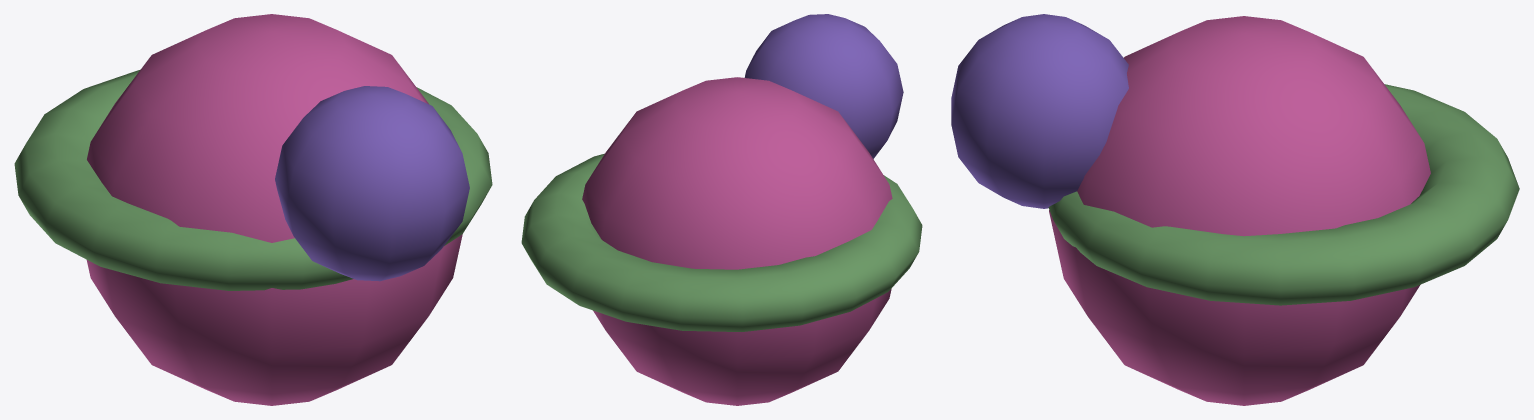
The model's file is glow_snail.glb.
3 views of the same model, side by side, from view 1: azimuth 30°, elevation 25°; view 2: azimuth 150°, elevation 25°; view 3: azimuth 270°, elevation 25° (orthographic). The views are drawn at different scales.
Visible parts, largest first — view 1: body_core, head_core, shell_ring; view 2: body_core, shell_ring, head_core; view 3: body_core, shell_ring, head_core.
Part boxes in pixels (x1,y1,x2,y2): body_core: [86, 14, 462, 405]; head_core: [275, 86, 469, 281]; shell_ring: [14, 69, 492, 290]; body_core: [582, 77, 892, 405]; shell_ring: [521, 153, 922, 331]; head_core: [744, 14, 903, 158]; body_core: [1049, 16, 1430, 405]; shell_ring: [1048, 84, 1519, 305]; head_core: [951, 14, 1128, 208].
Size of what is drawn, in the model's own units: 1.96 by 1.65 by 2.33.
